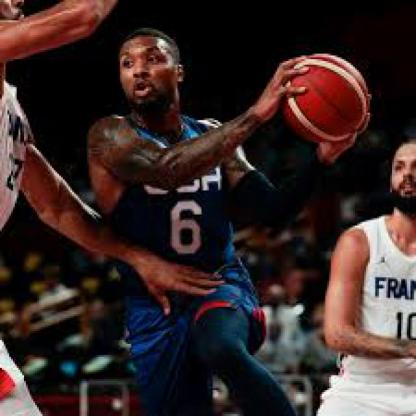basketball: (279, 53, 370, 142)
